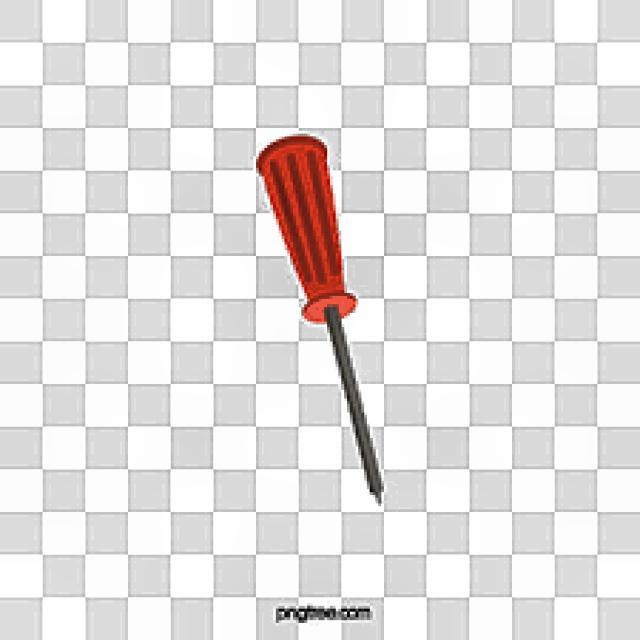screwdriver: (255, 133, 386, 506)
